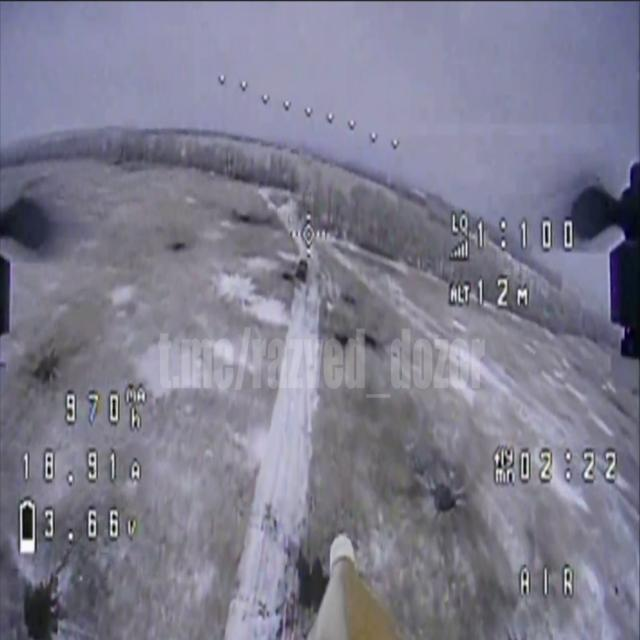vehicle: (283, 250, 316, 293)
